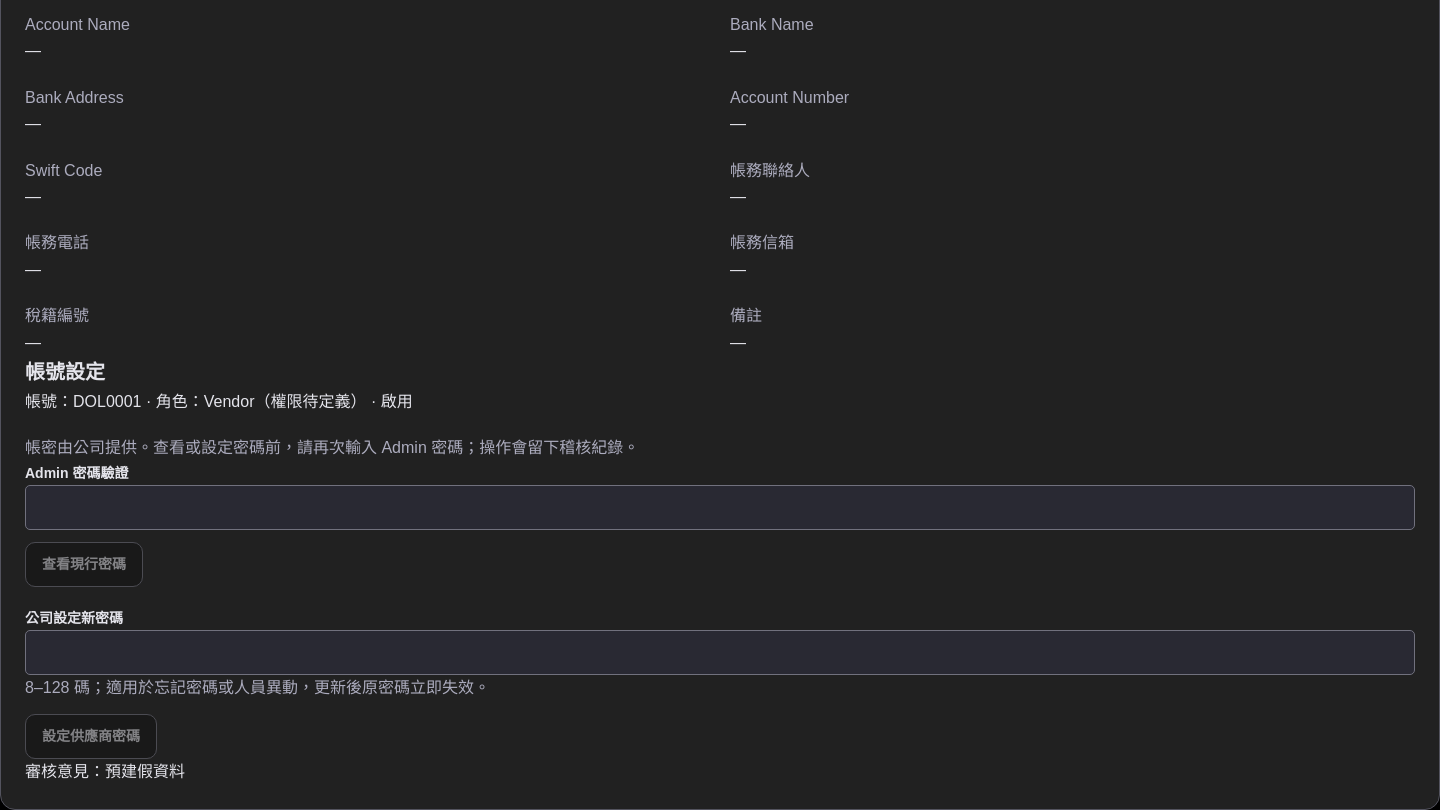
Scenario: Admin再次驗證後查看及隱藏密碼，設定新密碼會POST
(page scrolled)
Expected: the button "查看現行密碼" is disabled, [25,542,143,587]
In the password field labelled "Admin 密碼驗證": x=720, y=507 [25,485,1415,530], type "Demo1234!"
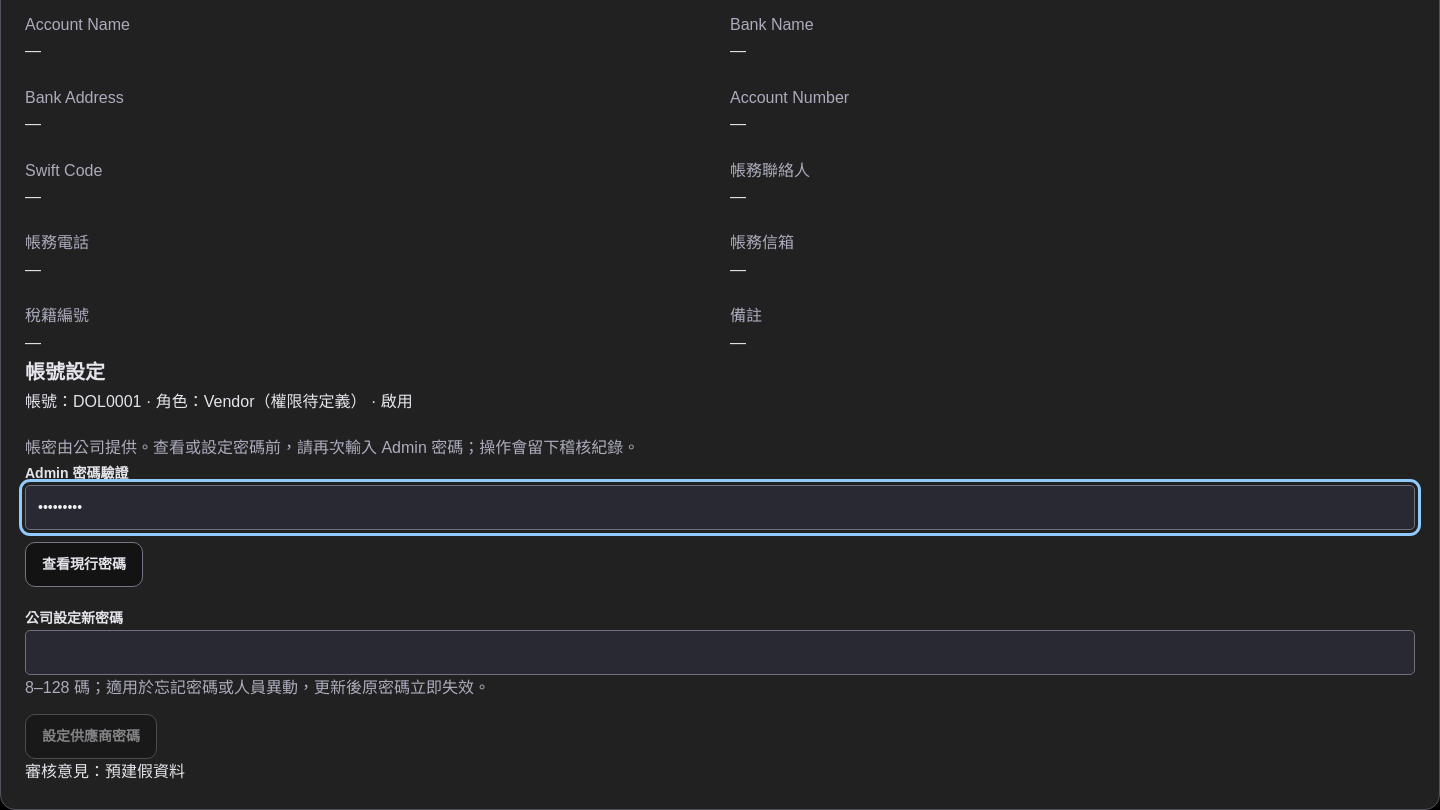
Click the button "查看現行密碼": x=84, y=564 [25,542,143,587]
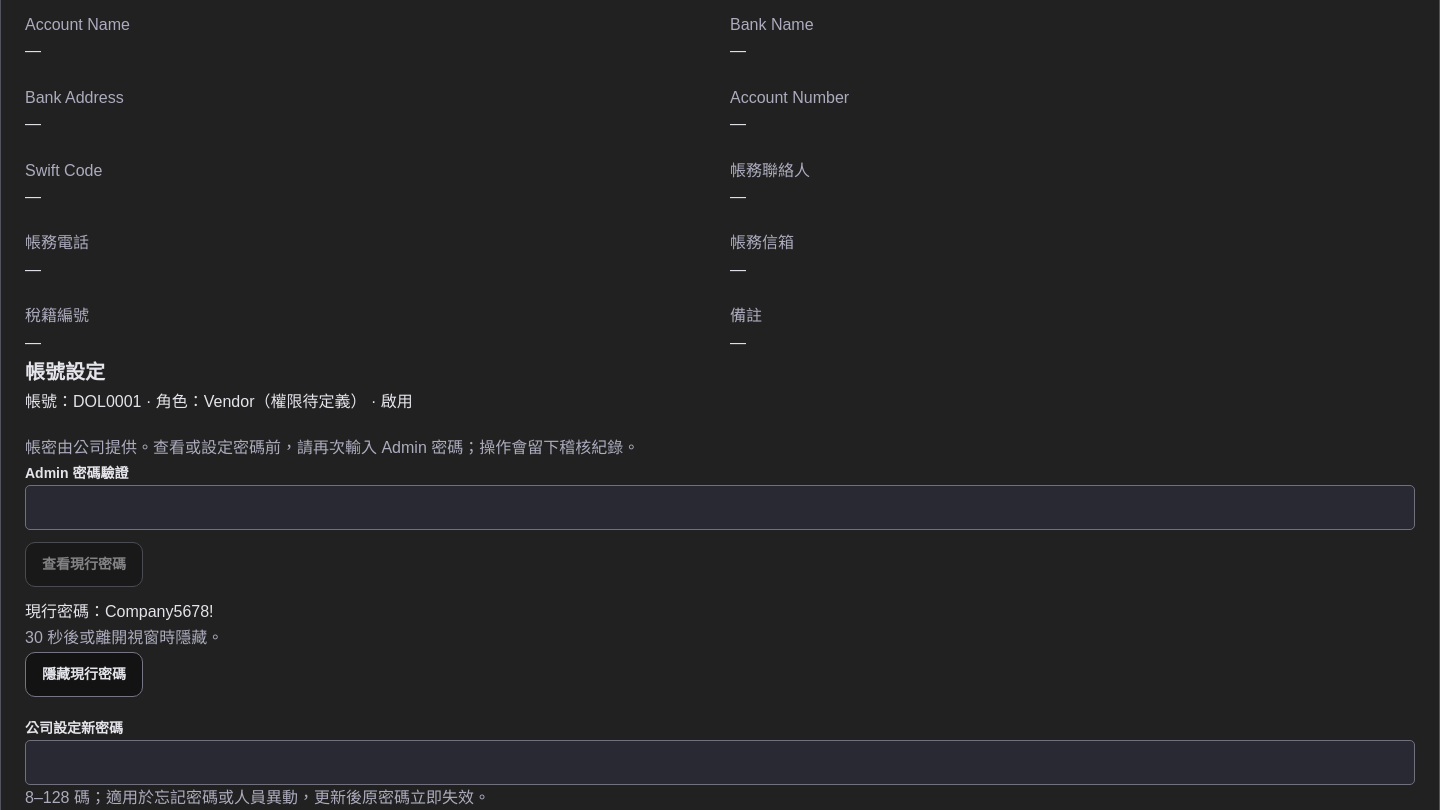
Now the text named "現行密碼" reads "Company5678!", box [105,603,214,620]
Now the password field labelled "Admin 密碼驗證" is empty, box [25,485,1415,530]
Click the button "隱藏現行密碼": x=84, y=674 [25,652,143,697]
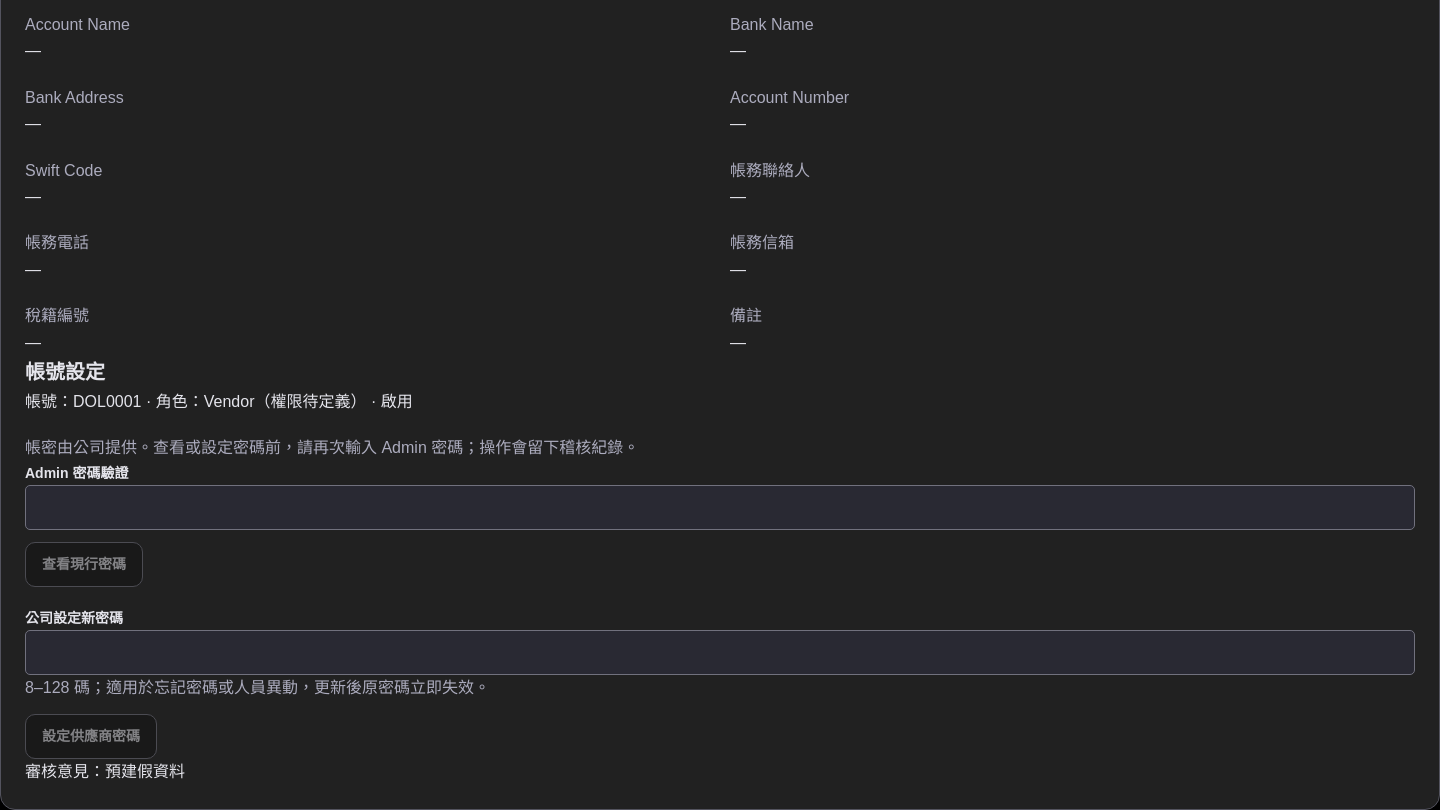
In the password field labelled "Admin 密碼驗證": x=720, y=507 [25,485,1415,530], type "Demo1234!"
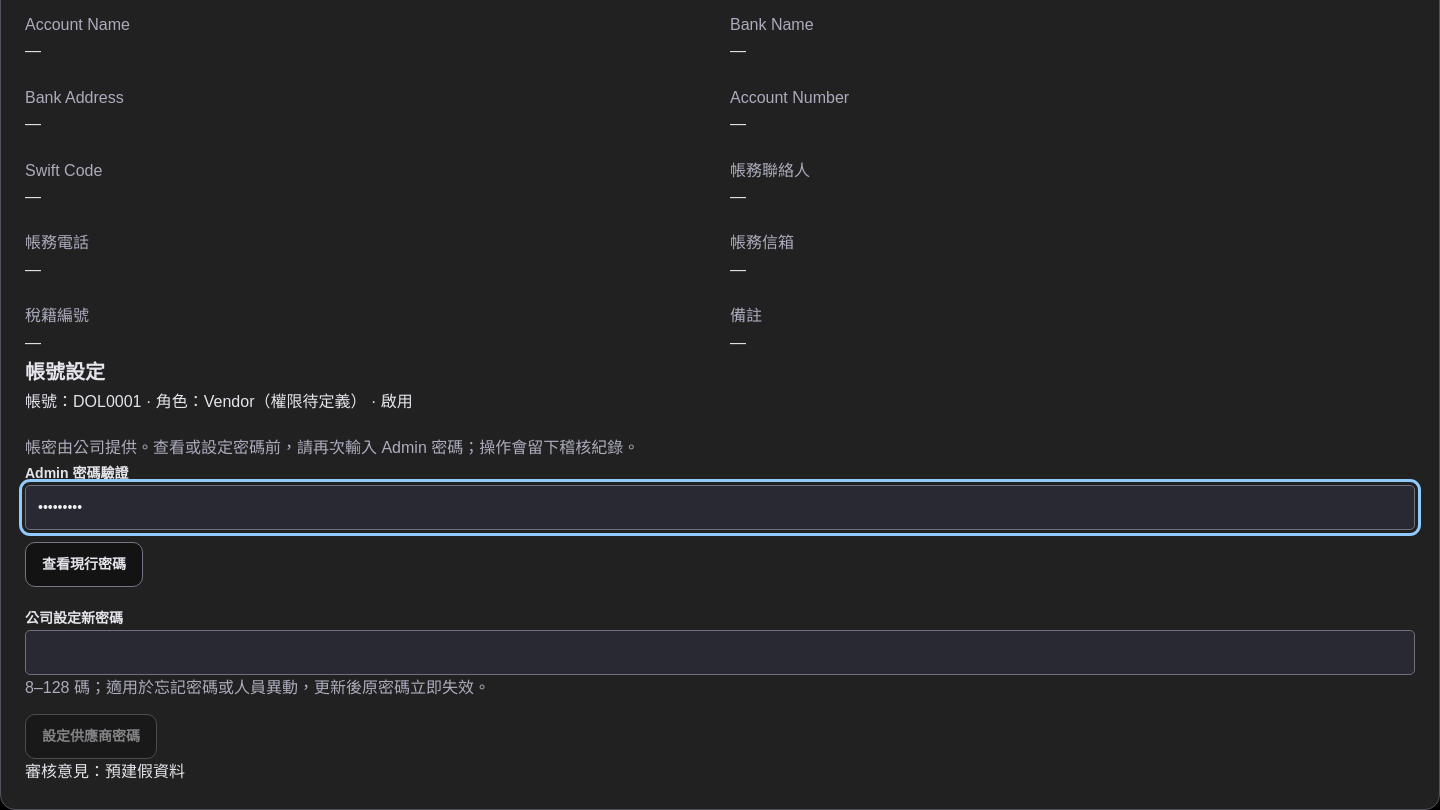
In the password field labelled "公司設定新密碼": x=720, y=653 [25,630,1415,675], type "NewCompany789!"
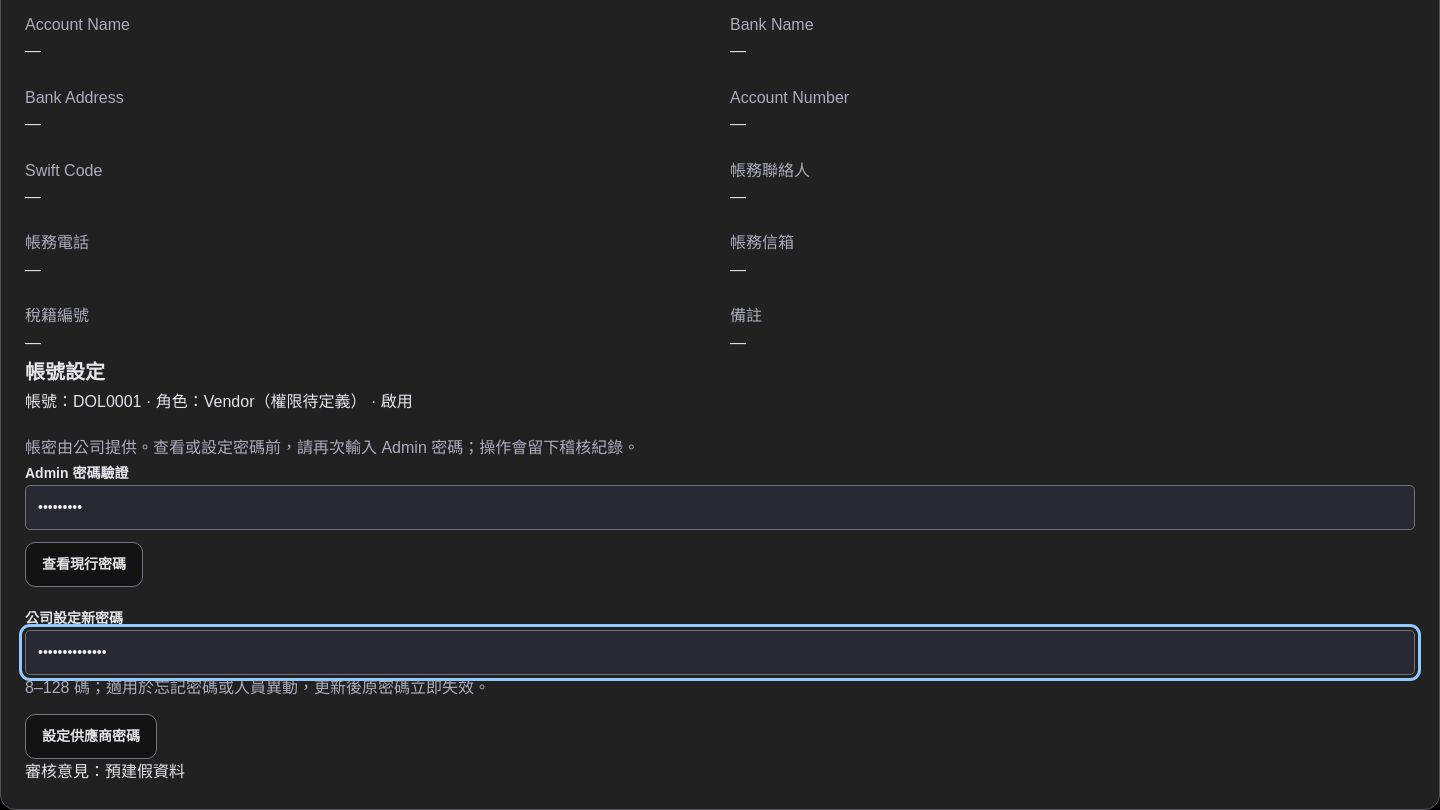
Click the button "設定供應商密碼": x=91, y=736 [25,714,157,759]
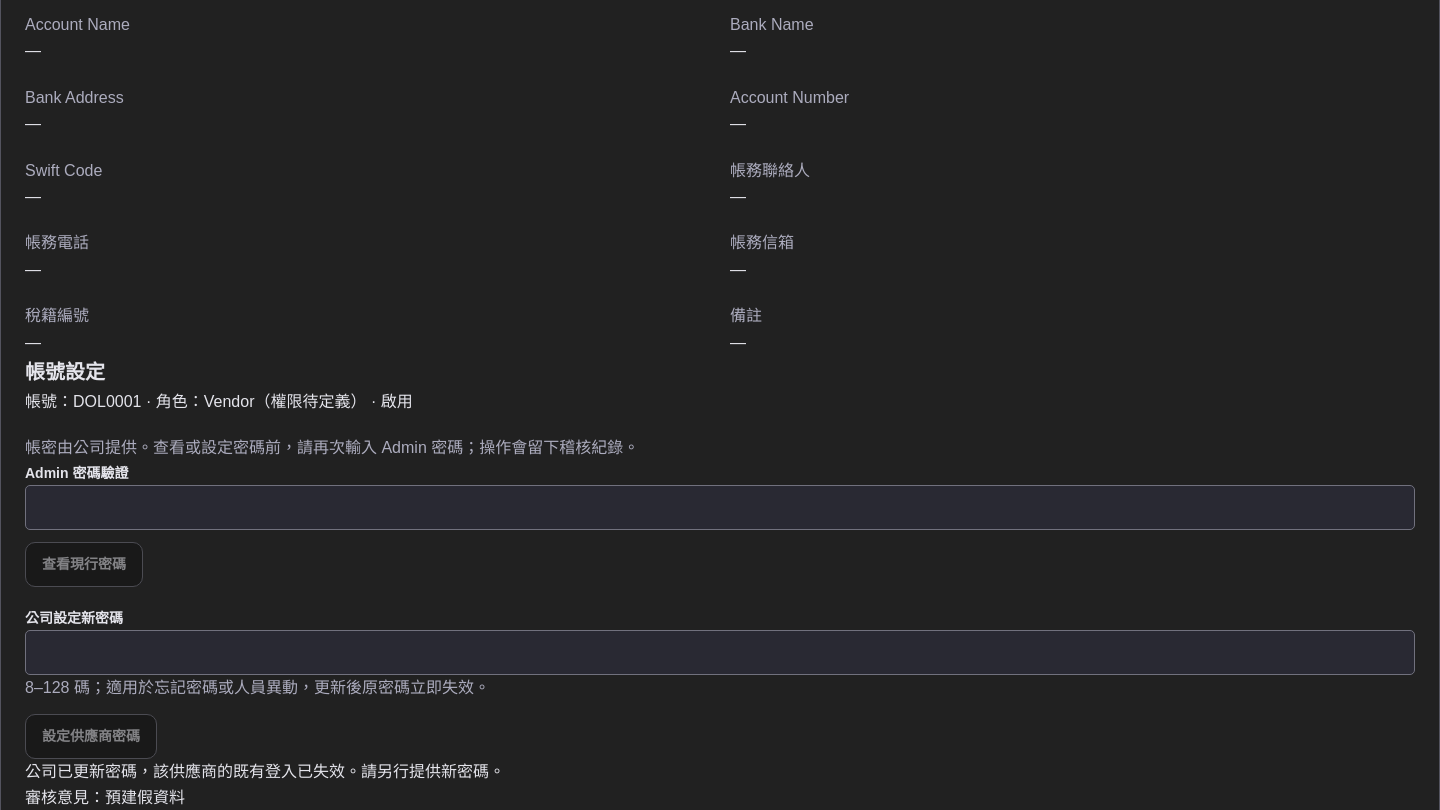
Now the text "公司已更新密碼，該供應商的既有登入已失效。請另行提供新密碼。" is shown, box [25,763,505,780]
